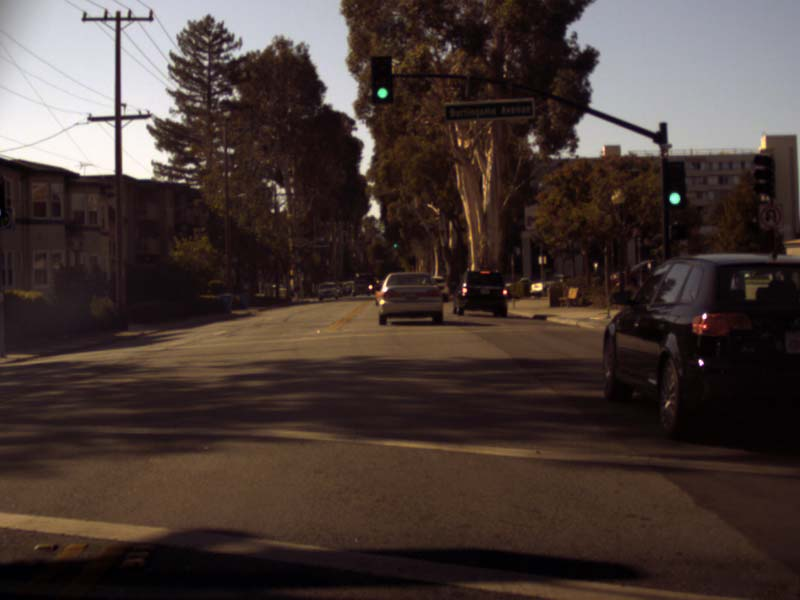Green: (663, 162, 686, 208), (371, 57, 392, 102)
